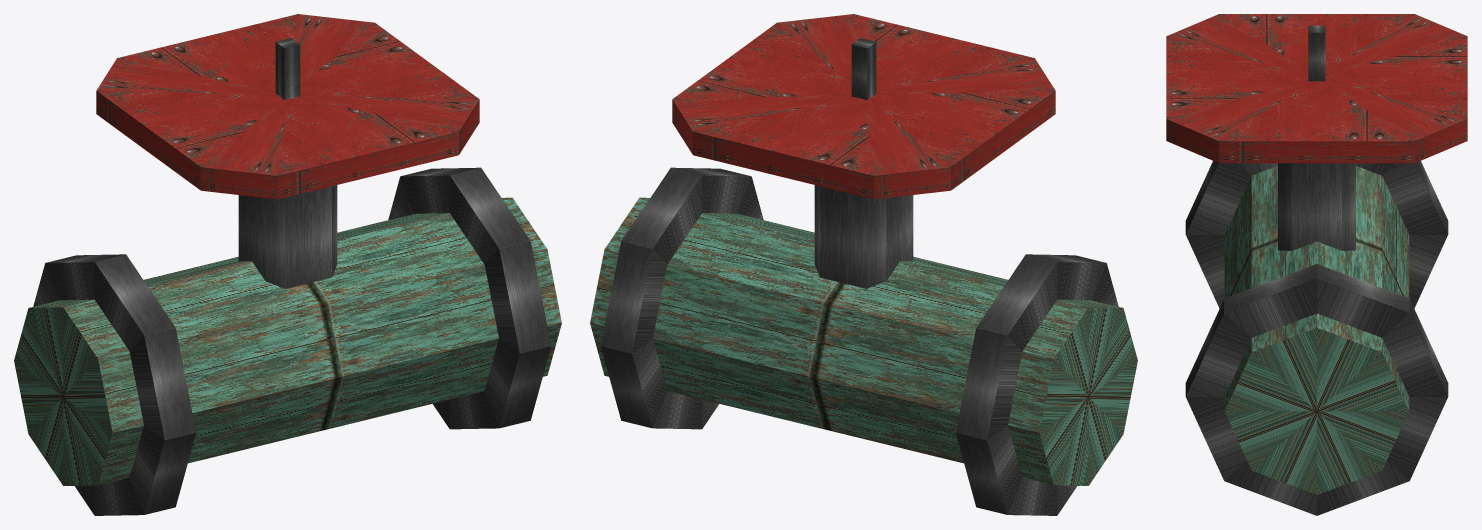
The model's file is pressure-valve.obj.
The picture shows the model from 3 angles, left to right: view 1: azimuth 30°, elevation 25°; view 2: azimuth 150°, elevation 25°; view 3: azimuth 270°, elevation 25°; orthographic projection. The views are drawn at different scales.
Parts seen in each view (by area): view 1: pressure-valve; view 2: pressure-valve; view 3: pressure-valve.
Boxes of the visible parts, x1=… form: pressure-valve: x1=14, y1=14, x2=561, y2=515; pressure-valve: x1=590, y1=14, x2=1137, y2=515; pressure-valve: x1=1166, y1=14, x2=1467, y2=515.
Bounding box in the file's own units: 1 × 0.905 × 0.62.
2 materials, 2 textured.
